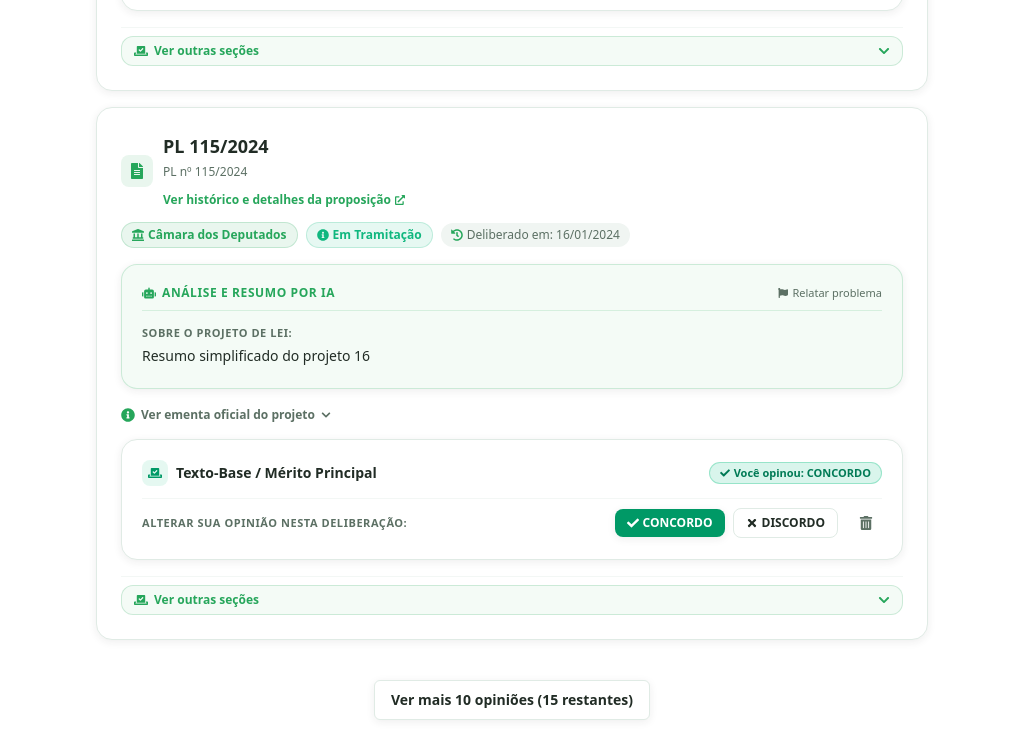
Test case: RevisaoPage - Paginação e Filtros › renderiza lista com paginação inicial de 10 itens e indicador de contagem
The image size is (1024, 752).
(page scrolled)
Click the button "Ver mais 10 opiniões (15 restantes)" at (512, 700), box [374,680,650,720]
(page scrolled)
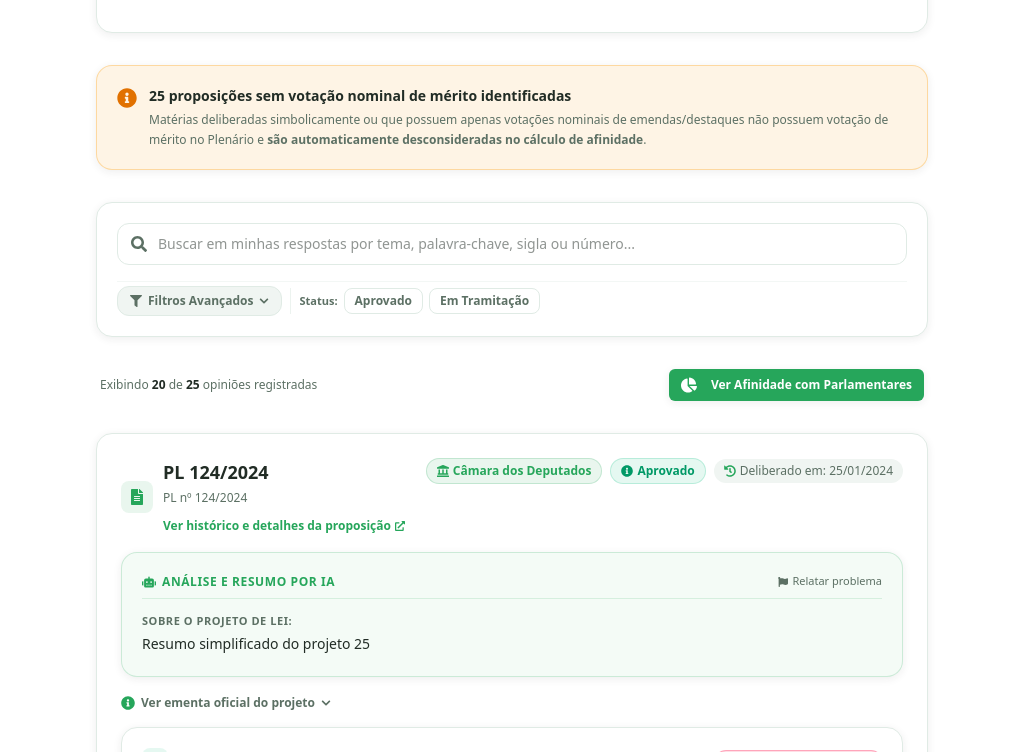
Check: the text "20" is shown, box [152,376,166,393]
